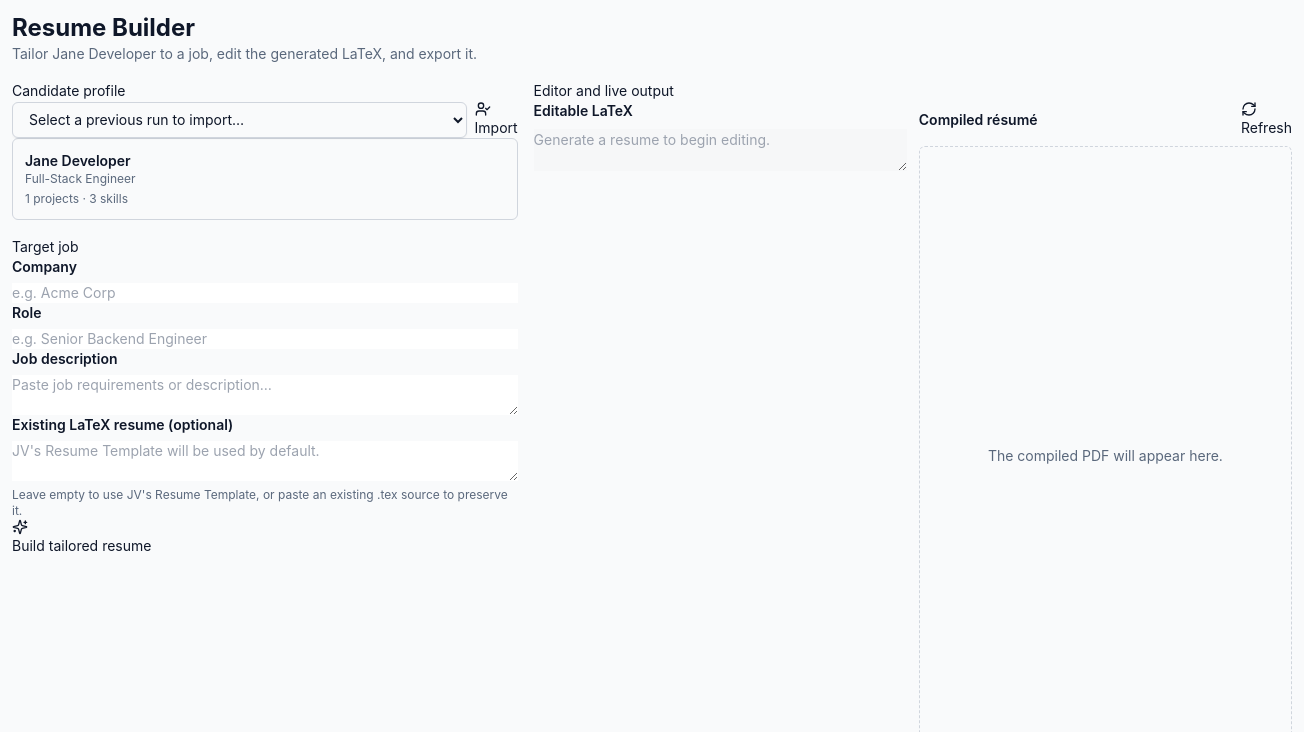
Test case: ResumeBuilderPage › imports candidate profile from a previous run
Expected: the text "Jane Developer" is shown, [25, 152, 131, 169]
Select "run-demo-1 (Acme Corp)" in the dropdown named "Select previous run" at {"x": 239, "y": 120}, box [12, 102, 466, 138]
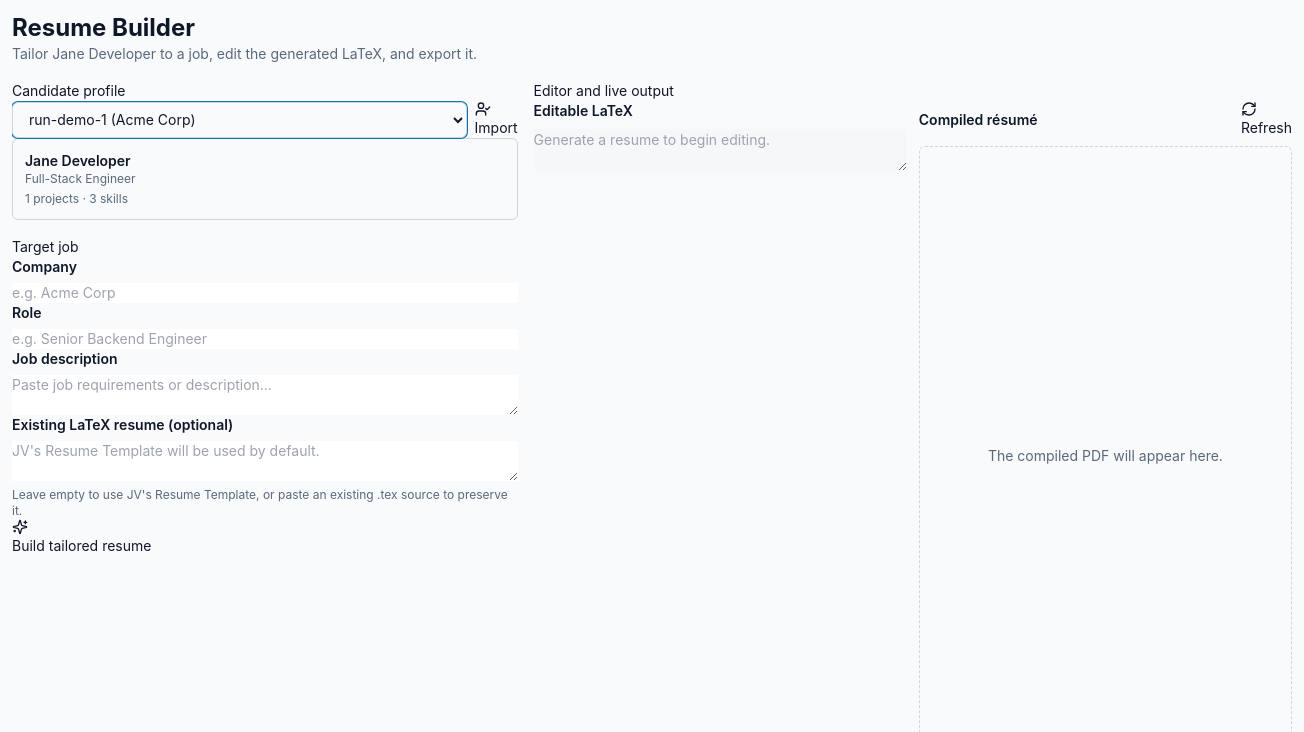
Click the button "Import" at {"x": 496, "y": 120}, box [474, 101, 518, 138]
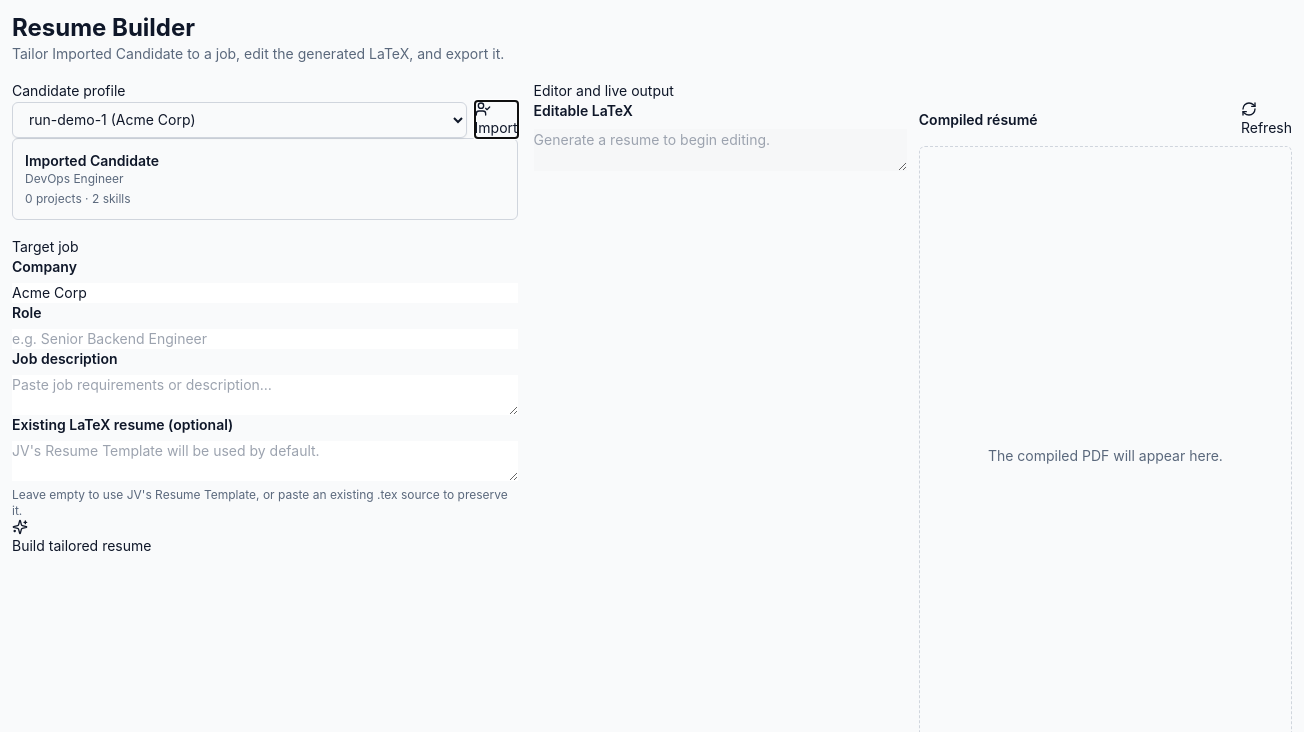
Now the text "Imported Candidate" is shown, box [25, 152, 159, 169]
Now the text "DevOps Engineer" is shown, box [25, 171, 124, 186]
